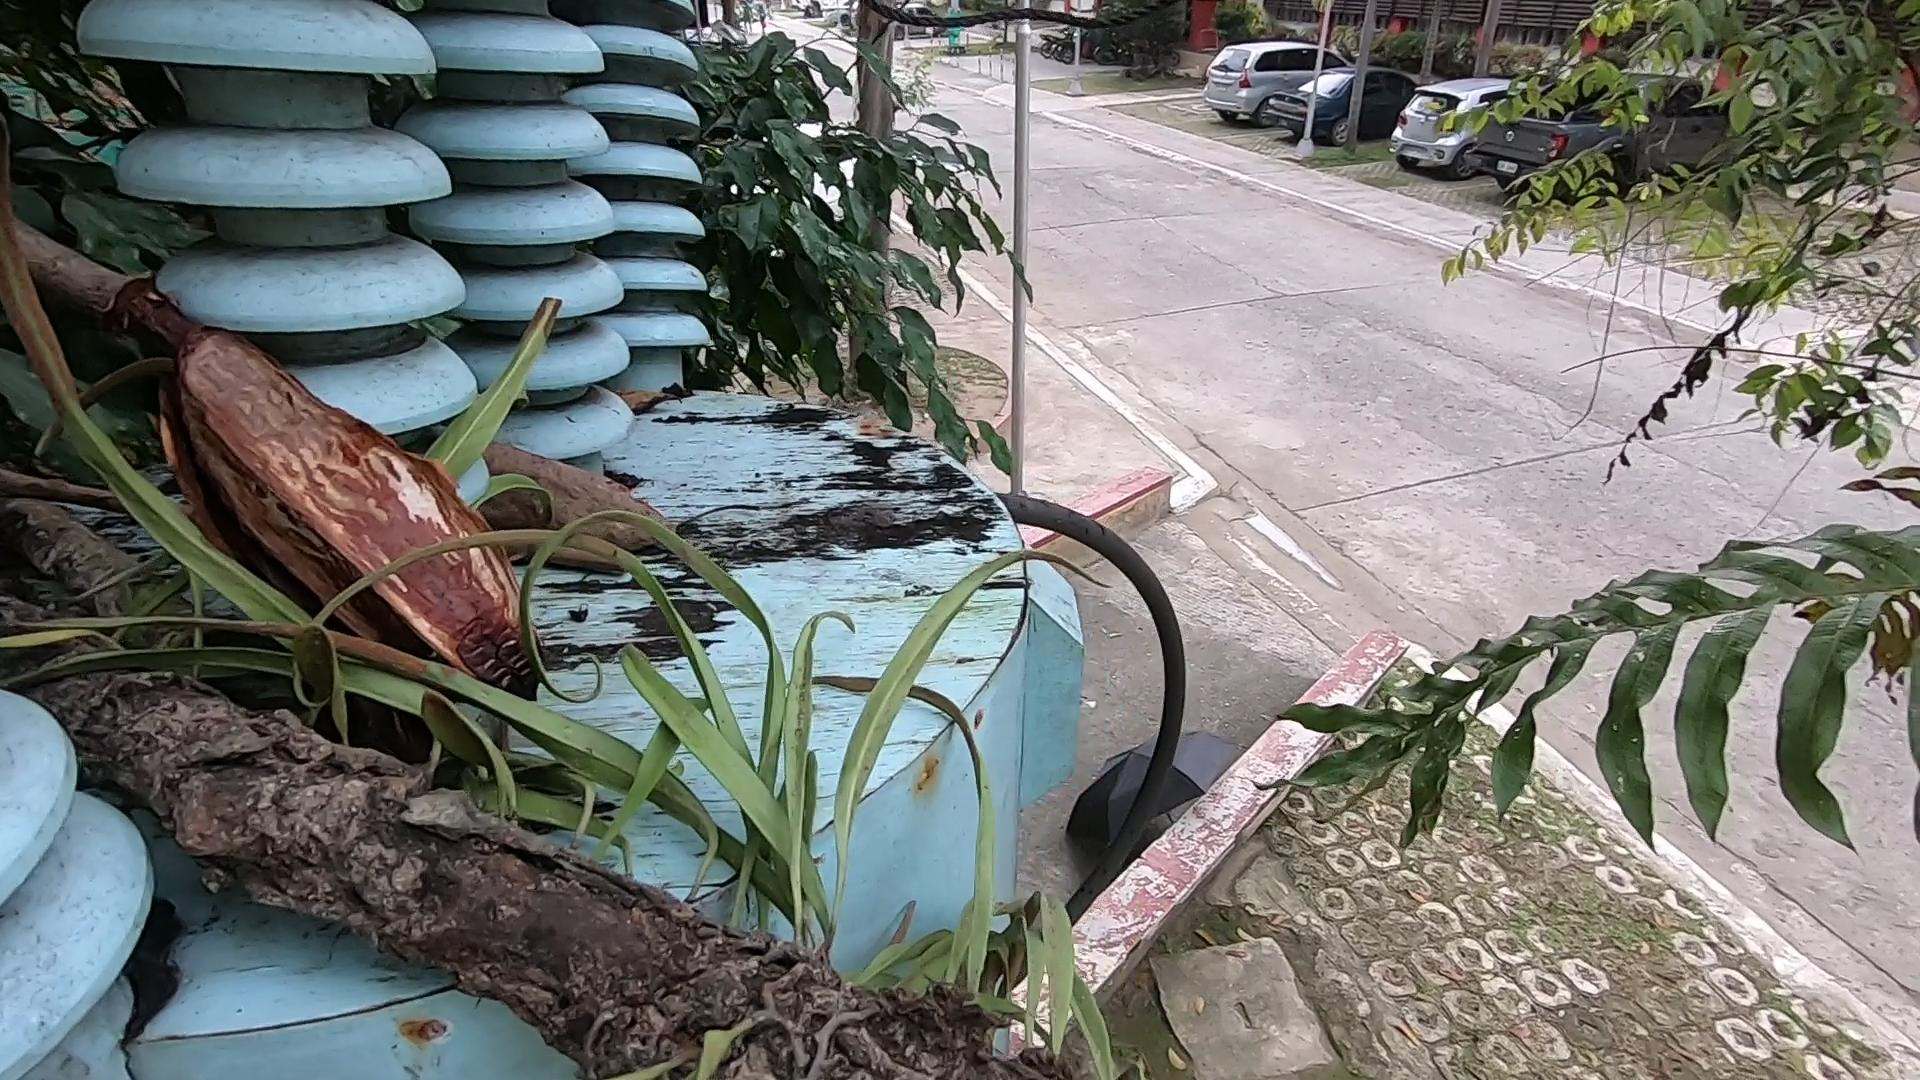branch with leaves: (30, 505, 1068, 1080)
leaf: (641, 373, 694, 423)
mahogany fruit: (164, 371, 563, 626), (392, 419, 678, 560)
tree branch: (3, 433, 647, 607), (4, 185, 149, 353)
